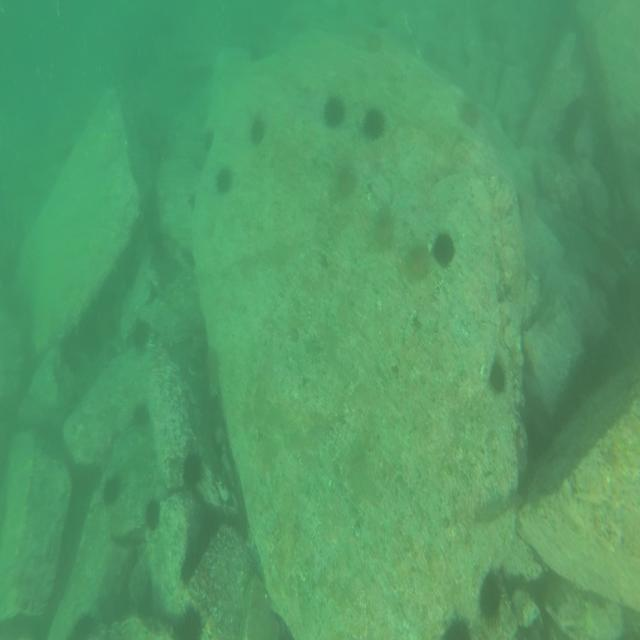echinus: (480, 570, 506, 626), (372, 202, 396, 252), (408, 237, 430, 284), (174, 601, 202, 637), (331, 161, 356, 201), (434, 228, 456, 269), (182, 450, 206, 486), (131, 319, 151, 359), (489, 356, 508, 396), (178, 555, 203, 585), (68, 616, 99, 640), (363, 108, 385, 141), (216, 164, 234, 200), (100, 474, 121, 504), (444, 620, 475, 640), (324, 96, 346, 124), (458, 97, 479, 126), (130, 399, 148, 430), (364, 28, 381, 58), (252, 114, 266, 146), (146, 500, 160, 528)
